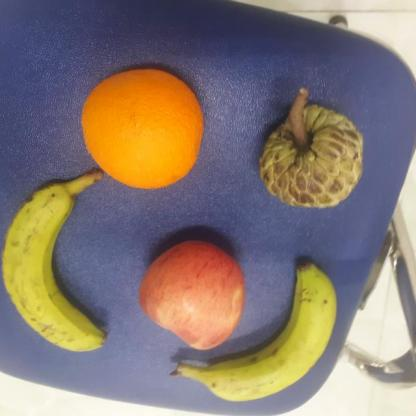annona: (253, 105, 370, 211)
apple: (131, 242, 253, 350)
banana: (0, 169, 110, 354)
orange: (75, 67, 210, 191)
